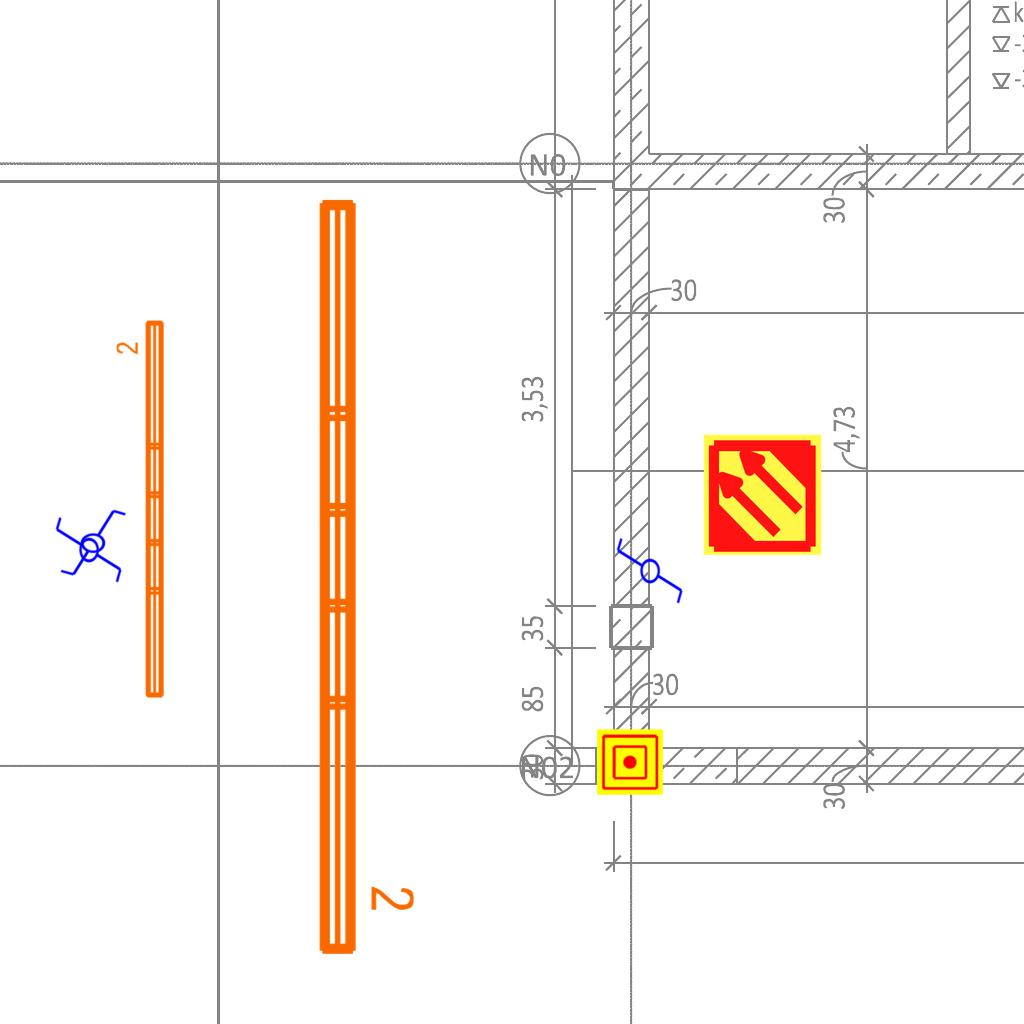ASR_Ansaugrauchmelder: (700, 432, 825, 557)
Ambulanz_Pendelleuchte_LED: (307, 189, 419, 963), (114, 316, 170, 703)
NAM-Nichtautomatischer_Melder: (597, 729, 663, 795)
Wechselschalter: (613, 536, 685, 614), (50, 506, 128, 578), (52, 515, 124, 593)
